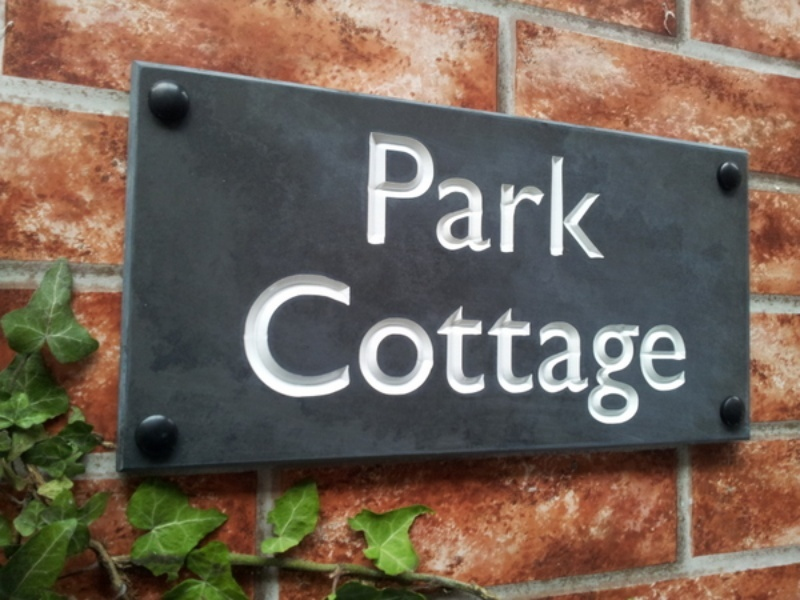text: (673, 270, 689, 427), (241, 270, 256, 427), (257, 270, 272, 427), (273, 270, 288, 427), (289, 270, 304, 427), (305, 270, 320, 427), (321, 270, 336, 427), (337, 270, 352, 427), (353, 270, 368, 427), (369, 270, 384, 427), (385, 270, 400, 427), (401, 270, 416, 427), (417, 270, 432, 427), (433, 270, 448, 427), (449, 270, 464, 427), (465, 270, 480, 427), (481, 270, 496, 427), (497, 270, 512, 427), (513, 270, 528, 427), (529, 270, 544, 427), (545, 270, 560, 427), (561, 270, 576, 427), (577, 270, 592, 427), (593, 270, 608, 427), (609, 270, 624, 427), (625, 270, 640, 427), (641, 270, 656, 427), (657, 270, 672, 427), (593, 129, 609, 261), (369, 129, 384, 261), (385, 129, 400, 261), (401, 129, 416, 261), (417, 129, 432, 261), (433, 129, 448, 261), (449, 129, 464, 261), (465, 129, 480, 261), (481, 129, 496, 261), (497, 129, 512, 261), (513, 129, 528, 261), (529, 129, 544, 261), (545, 129, 560, 261), (561, 129, 576, 261), (577, 129, 592, 261), (363, 129, 368, 261), (239, 270, 240, 427)
